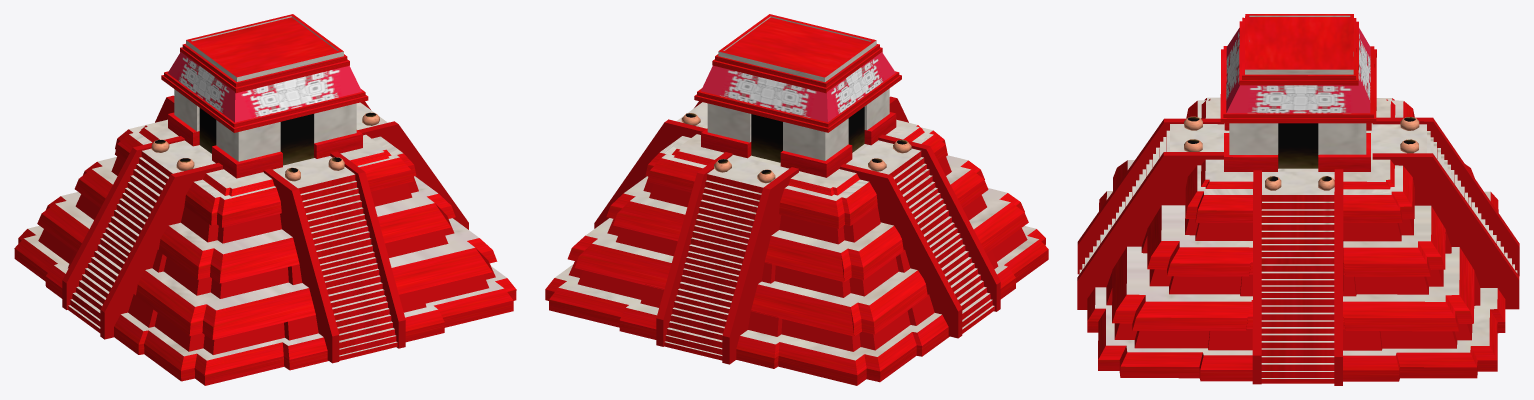
The model's file is piramide_3.dae.
3 views of the same model, side by side, from view 1: azimuth 30°, elevation 25°; view 2: azimuth 150°, elevation 25°; view 3: azimuth 270°, elevation 25° (orthographic). The views are drawn at different scales.
Parts seen in each view (by area): view 1: p_3; view 2: p_3; view 3: p_3.
Boxes of the visible parts, <box> form: p_3: <box>14,14,516,385</box>; p_3: <box>545,14,1048,385</box>; p_3: <box>1077,14,1519,385</box>.
Size of the model in its own units: 60.35 by 59.57 by 37.04.
